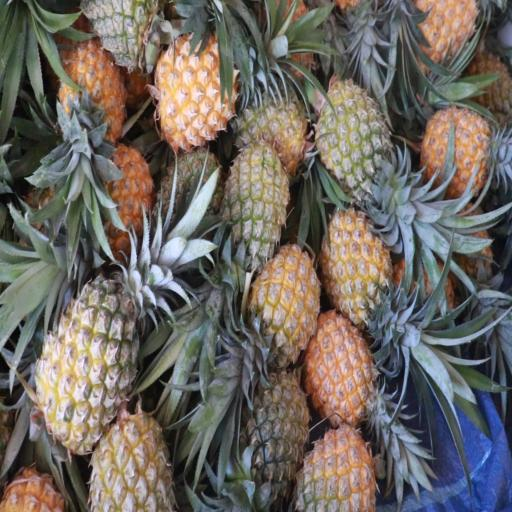------------------------------: (38, 277, 136, 447), (89, 411, 172, 512), (240, 84, 308, 181)
Pineapple - v8 v1: (156, 40, 238, 146), (322, 209, 396, 324), (421, 106, 509, 200), (306, 314, 376, 426), (256, 250, 320, 356), (58, 45, 123, 149), (409, 0, 483, 76), (94, 149, 150, 247)
